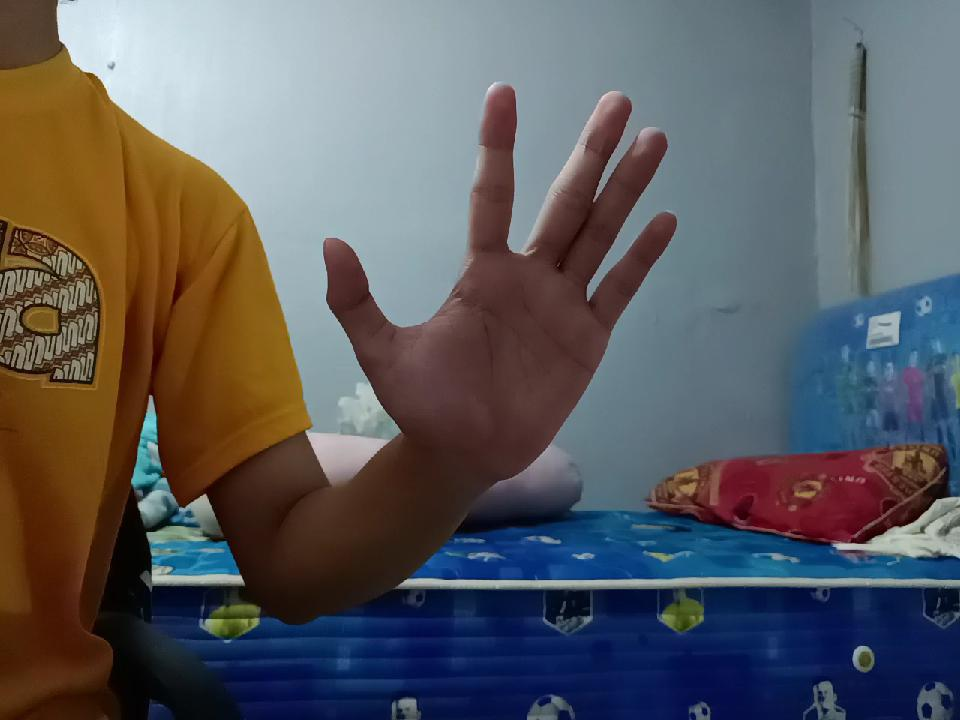paper: (328, 70, 672, 490)
